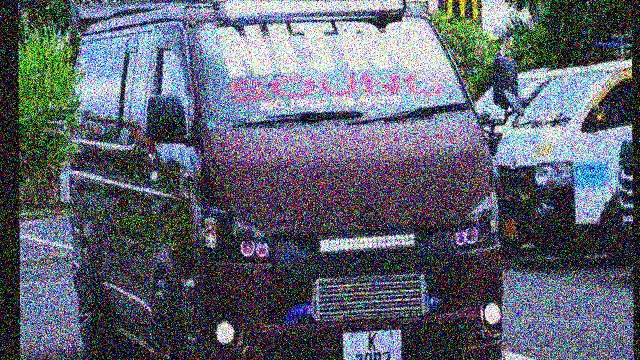van: (70, 0, 510, 360)
